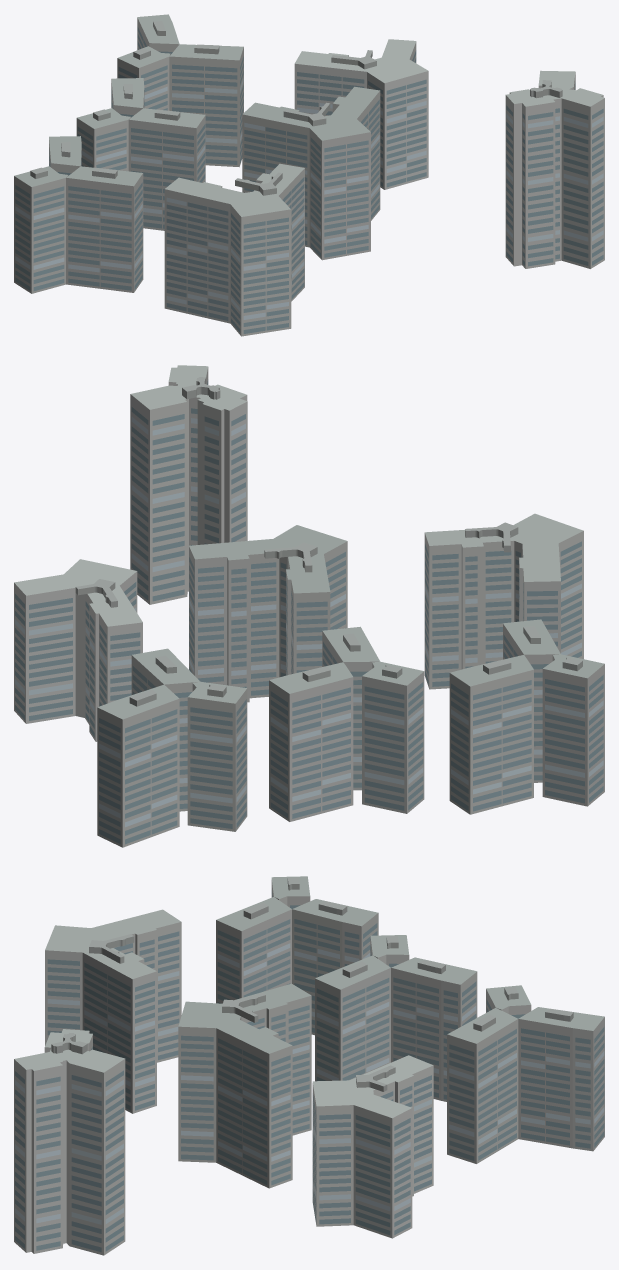
File: apt-a13821004.glb
3 renders of one model, top to bottom at view 1: azimuth 30°, elevation 25°; view 2: azimuth 150°, elevation 25°; view 3: azimuth 270°, elevation 25°, orthographic. The views are drawn at different scales.
Parts seen in each view (by area): view 1: apt-a13821004; view 2: apt-a13821004; view 3: apt-a13821004.
Part boxes in pixels (x1,y1,x2,y2): apt-a13821004: (14,14,604,336); apt-a13821004: (14,365,604,847); apt-a13821004: (14,876,604,1255).
Size of the model in its own units: 185 by 63.4 by 179.
